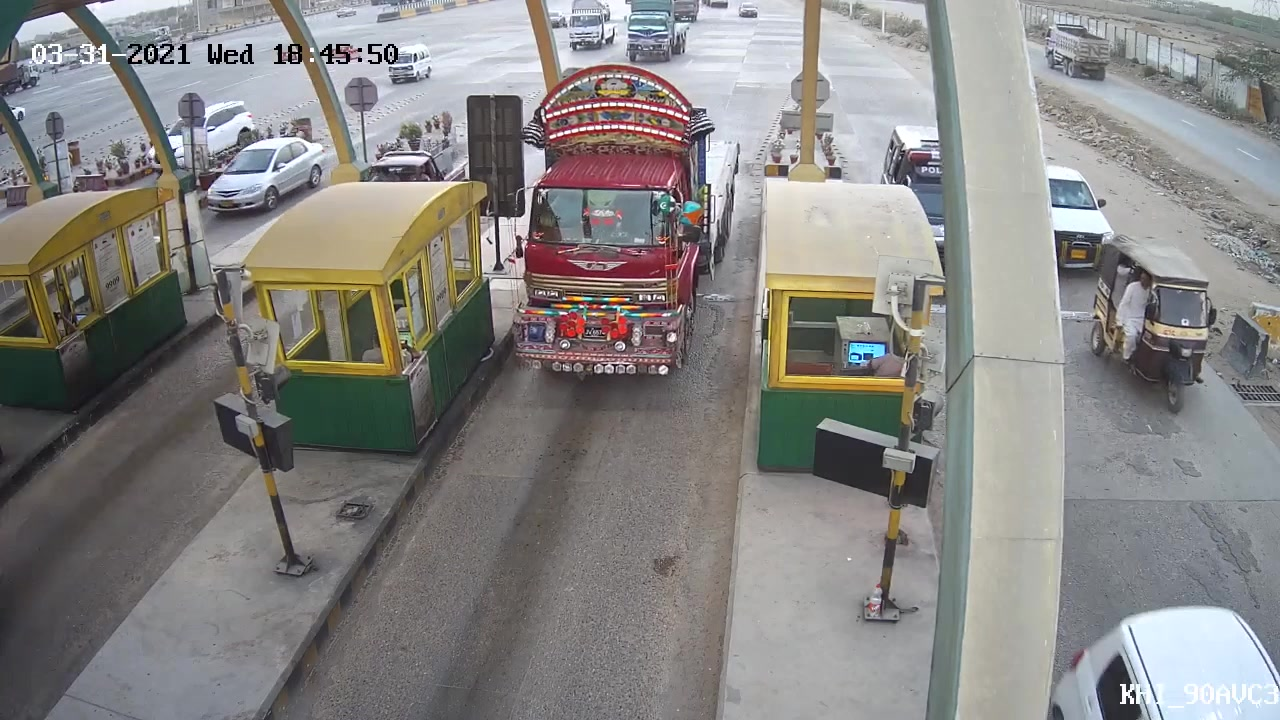F5: (493, 61, 742, 388)
